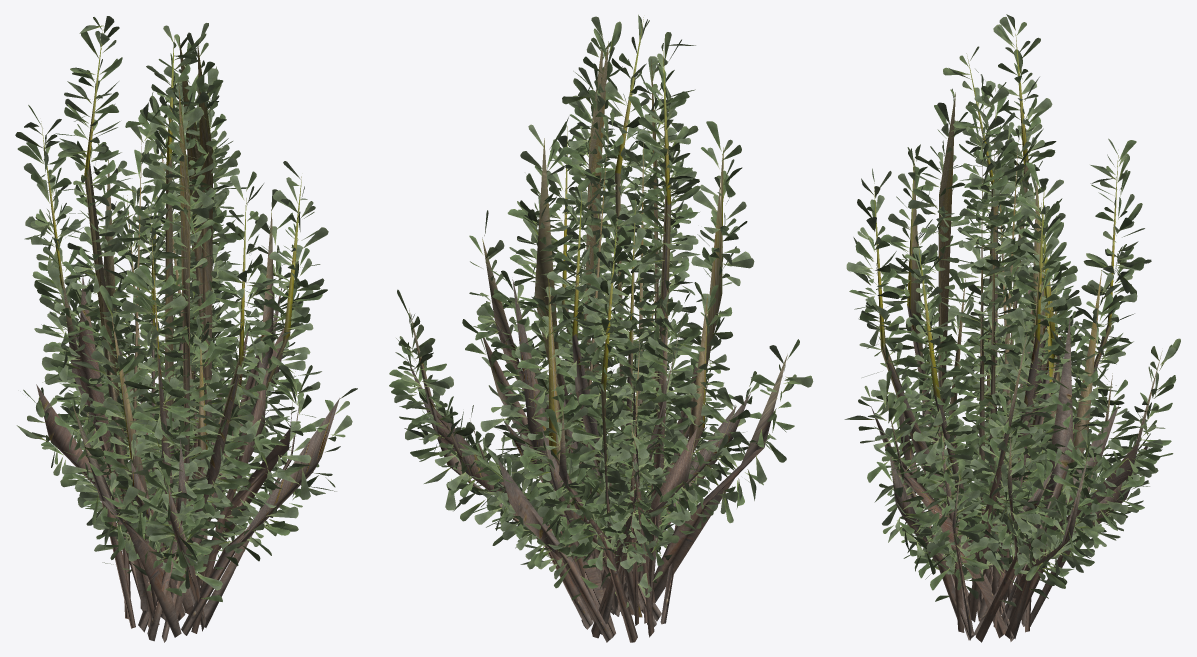
File: othonna_cerarioides_a.gltf
3 renders of one model, left to right at view 1: azimuth 30°, elevation 25°; view 2: azimuth 150°, elevation 25°; view 3: azimuth 270°, elevation 25°, orthographic. The views are drawn at different scales.
Parts seen in each view (by area): view 1: othonna_cerarioides_a__x; view 2: othonna_cerarioides_a__x; view 3: othonna_cerarioides_a__x.
Part boxes in pixels (box(x1,y1,x2,y2)): othonna_cerarioides_a__x: box(15, 16, 357, 642); othonna_cerarioides_a__x: box(389, 14, 813, 642); othonna_cerarioides_a__x: box(844, 14, 1180, 642).
Bounding box in the file's own units: 1.1 × 1.97 × 1.03.
2 materials, 2 textured.
